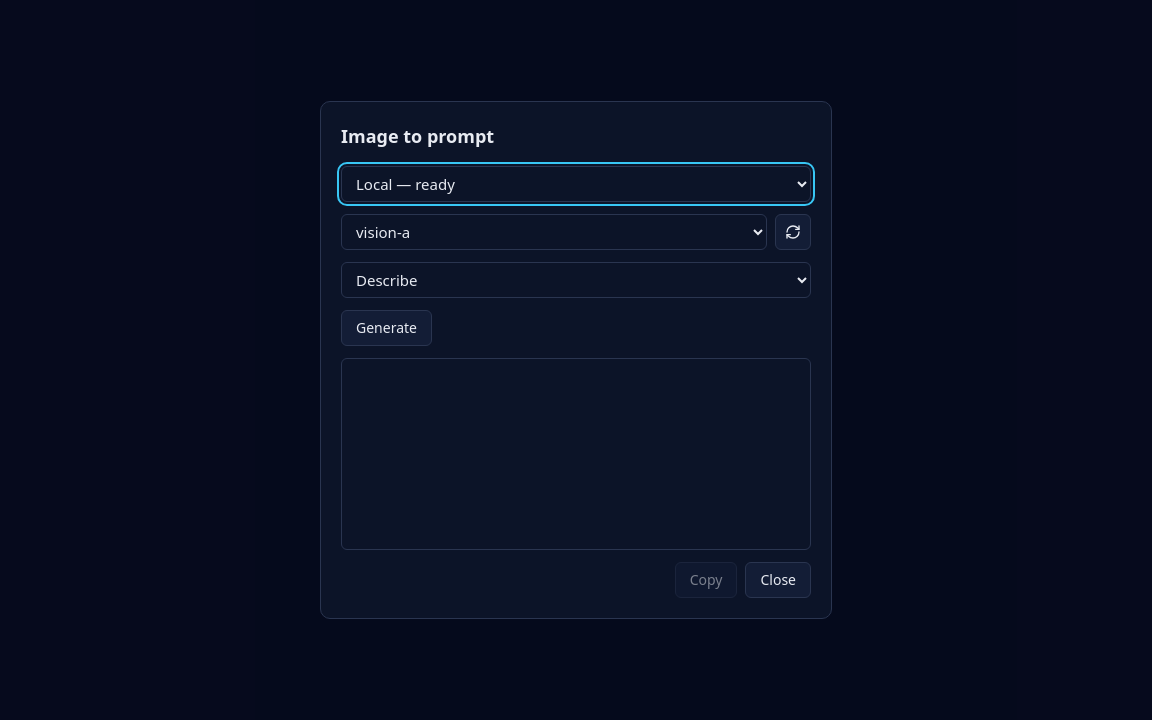
Test: a copy that works clears the message of one that failed
The width and height of the screenshot is (1152, 720).
Check: the dropdown named "Prompt model" shows "vision-a", box [341,214,767,250]
Click the button "Generate": coordinates (386, 328) [341,310,432,346]
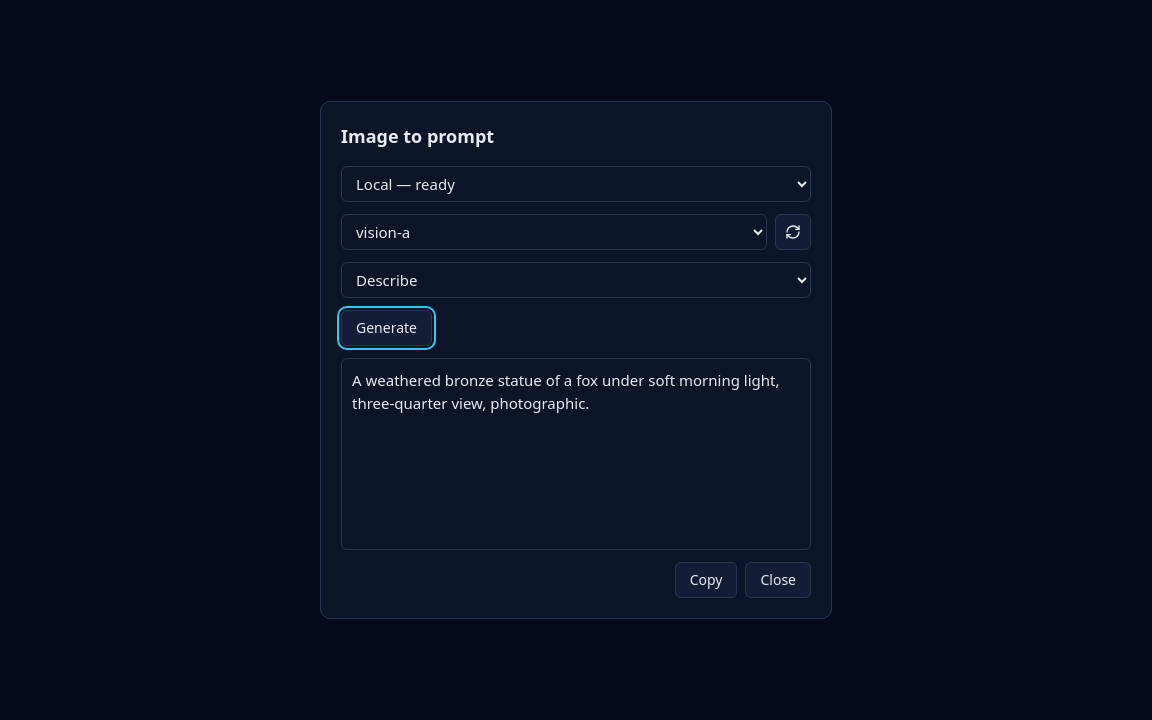
Check: the text box named "Generated prompt" holds "A weathered bronze statue of a fox under soft morning light, three-quarter view, photographic.", box [341,358,811,550]
Click the button "Copy": coordinates (706, 580) [675,562,738,598]
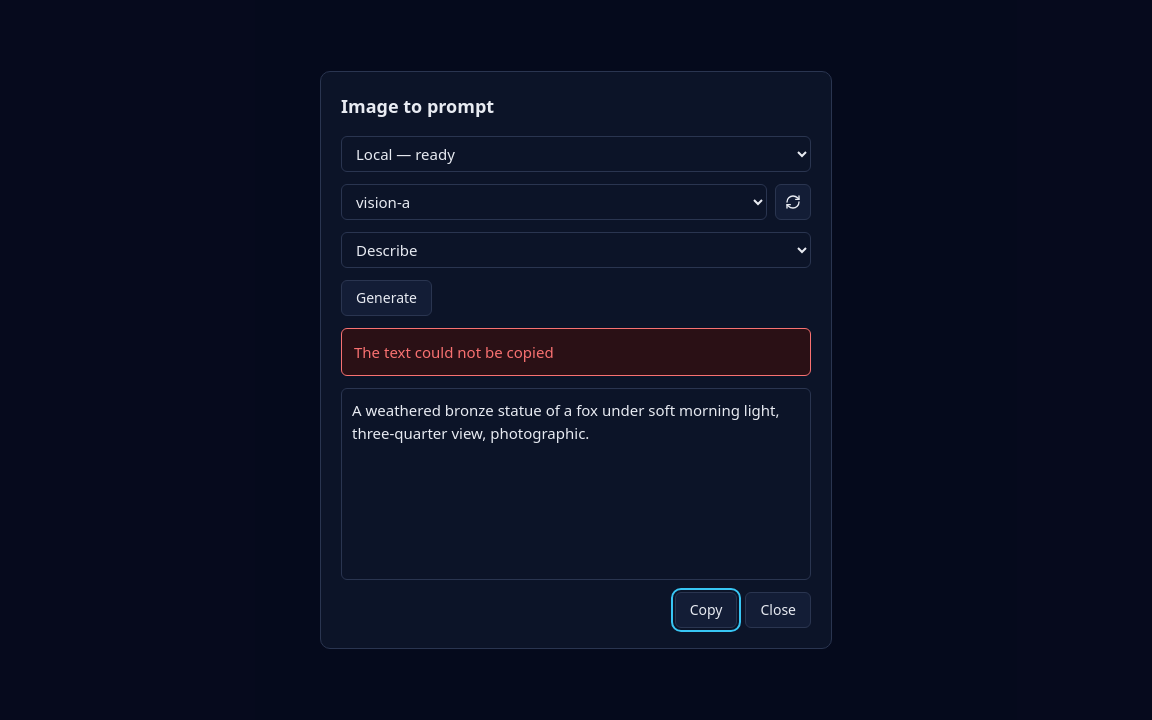
Check: the message reads "The text could not be copied", box [354,342,554,362]
Click the button "Copy": coordinates (706, 610) [675,592,738,628]
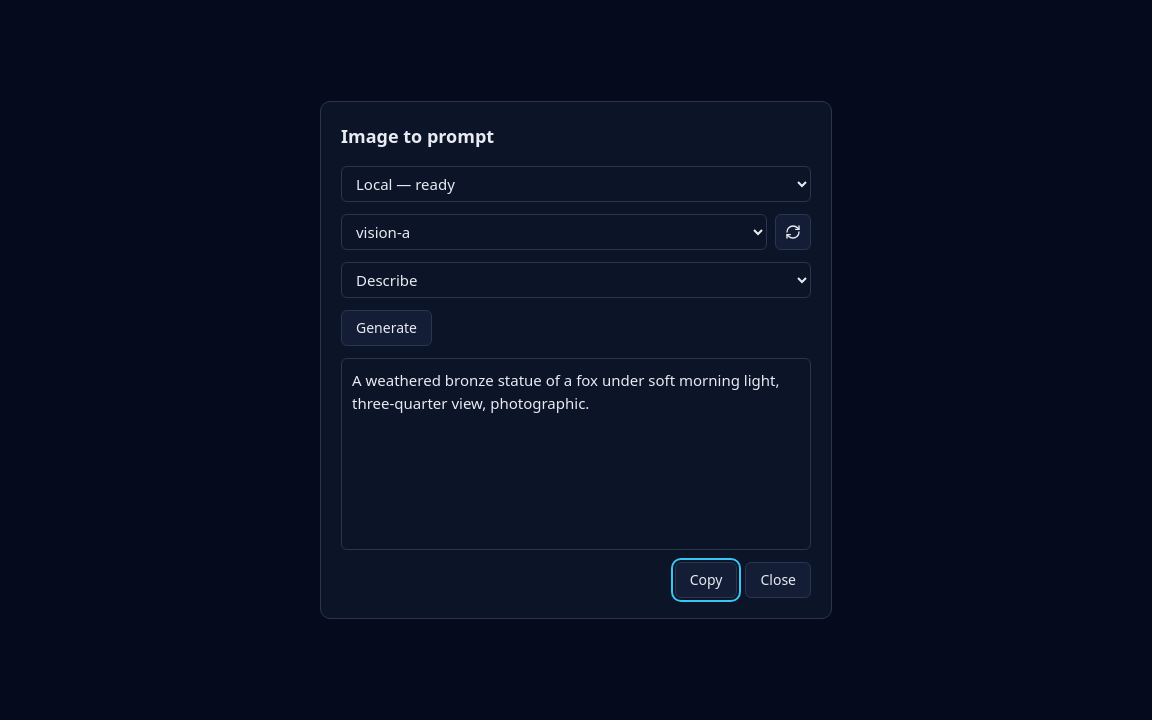
Check: the message "The text could not be copied" is gone
